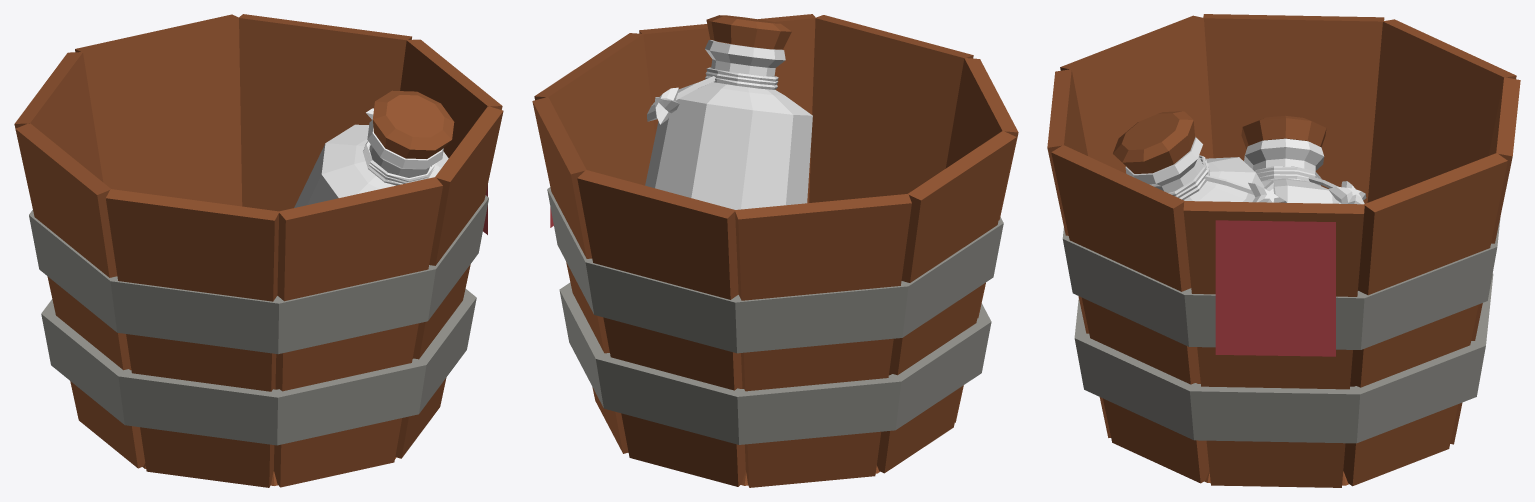
Rendered from Bin_Use.fbx.
The picture shows the model from 3 angles, left to right: view 1: azimuth 30°, elevation 25°; view 2: azimuth 150°, elevation 25°; view 3: azimuth 270°, elevation 25°; orthographic projection.
Visible parts, largest first — view 1: prop.002; view 2: prop.002; view 3: prop.002.
Part boxes in pixels (x1,y1,x2,y2): prop.002: (14,14,503,487); prop.002: (532,14,1018,487); prop.002: (1047,14,1520,487).
Size of the model in its own units: 77.54 by 61.22 by 77.54.
